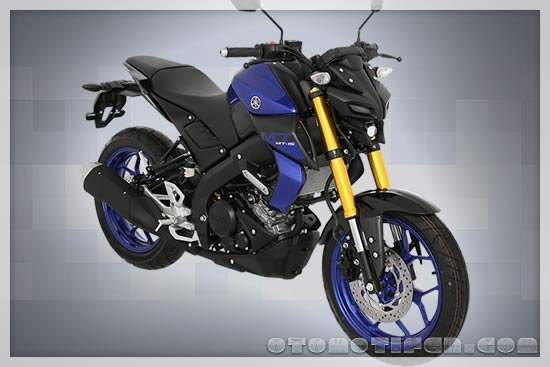motor: (81, 29, 489, 350)
